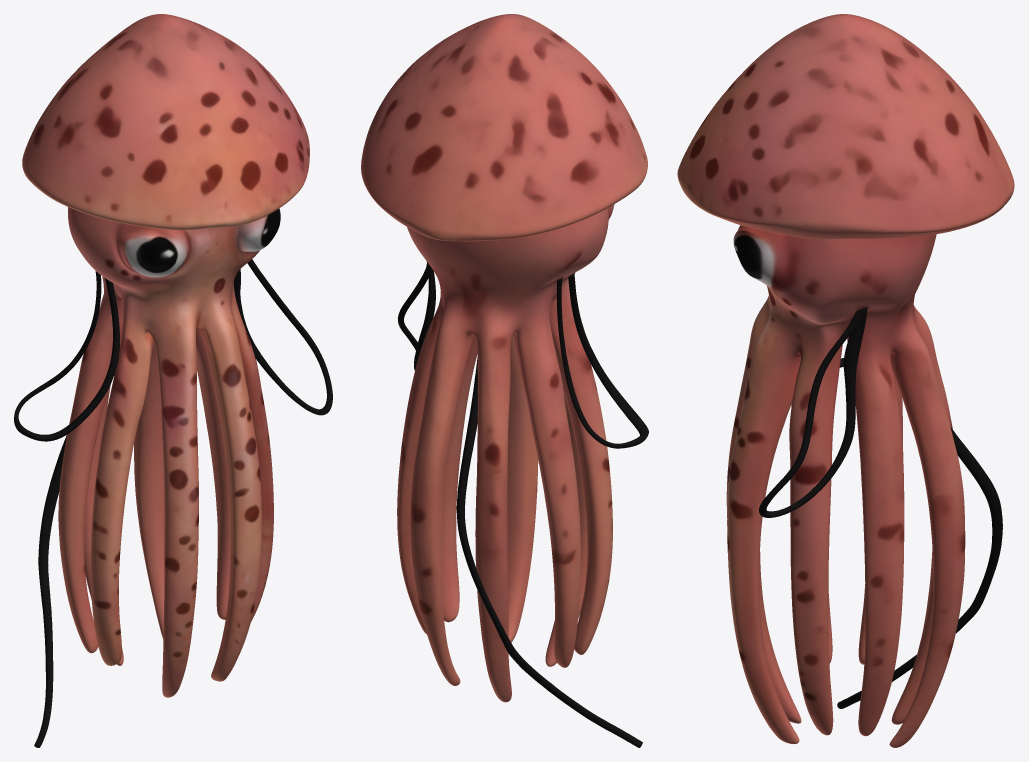
File: squid.glb
3 renders of one model, left to right at view 1: azimuth 30°, elevation 25°; view 2: azimuth 150°, elevation 25°; view 3: azimuth 270°, elevation 25°, orthographic. The views are drawn at different scales.
Parts seen in each view (by area): view 1: model; view 2: model; view 3: model.
Part boxes in pixels (x1=…): model: x1=14, y1=14, x2=332, y2=747; model: x1=361, y1=14, x2=648, y2=747; model: x1=677, y1=14, x2=1014, y2=747.
Size of the model in its own units: 0.7815 by 1.9 by 0.7604.
Materials: 1 (1 with a texture image).
